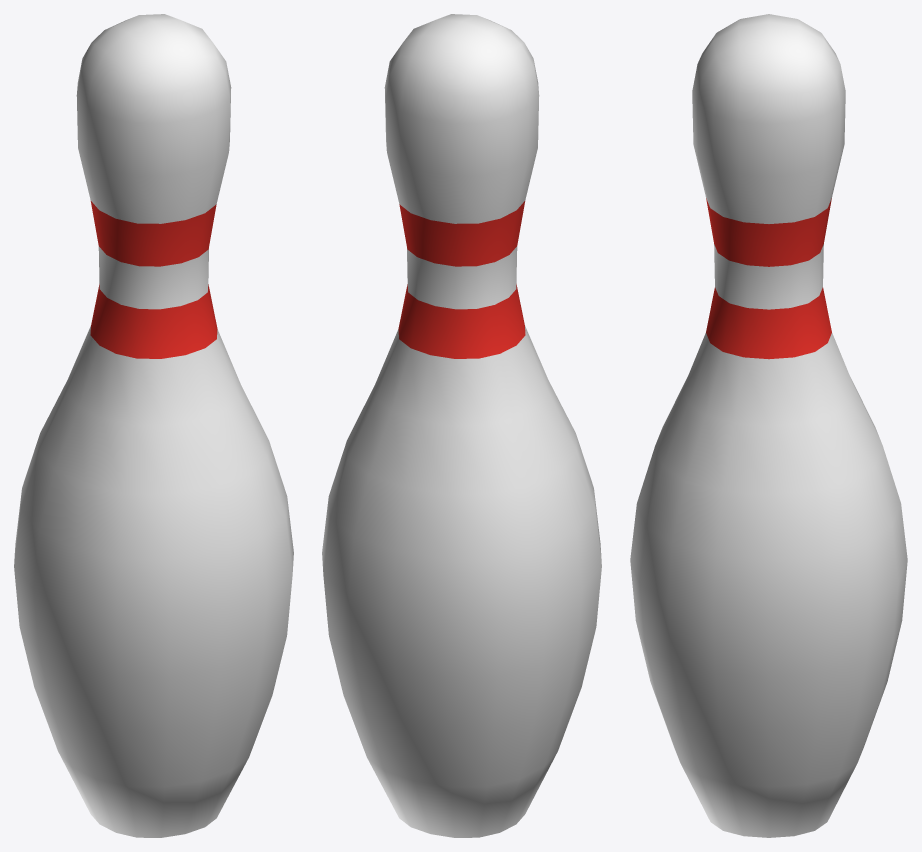
Rendered from BowlingPin.fbx.
3 views of the same model, side by side, from view 1: azimuth 30°, elevation 25°; view 2: azimuth 150°, elevation 25°; view 3: azimuth 270°, elevation 25° (orthographic).
Parts seen in each view (by area): view 1: Pin; view 2: Pin; view 3: Pin.
Part boxes in pixels (bbox=[...]): Pin: bbox=[14, 14, 293, 837]; Pin: bbox=[322, 14, 601, 837]; Pin: bbox=[630, 14, 907, 837].
Bounding box in the file's own units: 12.1 × 37.98 × 12.1.
